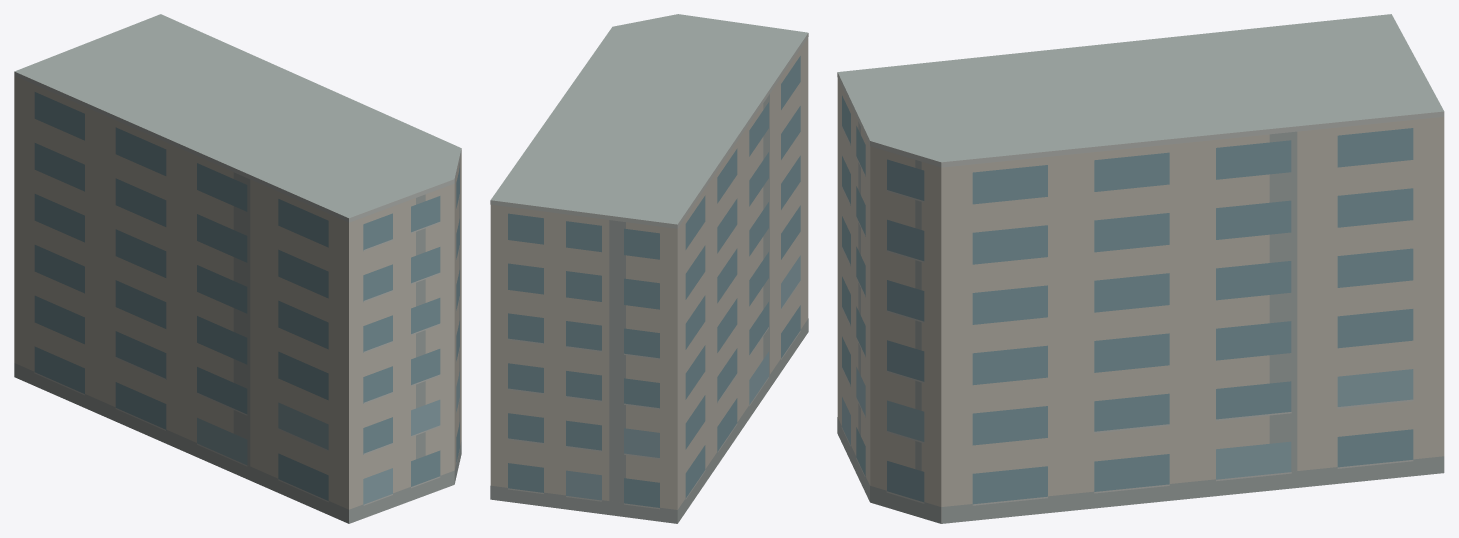
The model's file is survey-upis-32800384.glb.
The picture shows the model from 3 angles, left to right: view 1: azimuth 30°, elevation 25°; view 2: azimuth 150°, elevation 25°; view 3: azimuth 270°, elevation 25°; orthographic projection. The views are drawn at different scales.
Parts seen in each view (by area): view 1: survey-upis-32800384.tmp; view 2: survey-upis-32800384.tmp; view 3: survey-upis-32800384.tmp.
Part boxes in pixels (<box>): survey-upis-32800384.tmp: <box>14,14,461,523</box>; survey-upis-32800384.tmp: <box>490,14,808,523</box>; survey-upis-32800384.tmp: <box>837,14,1444,523</box>.
Bounding box in the file's own units: 14.79 × 16.8 × 25.56.
